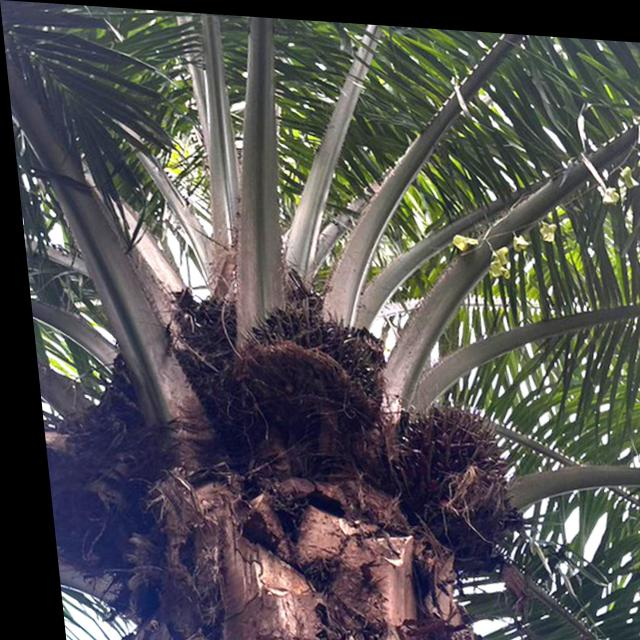unripe: (226, 286, 382, 411)
